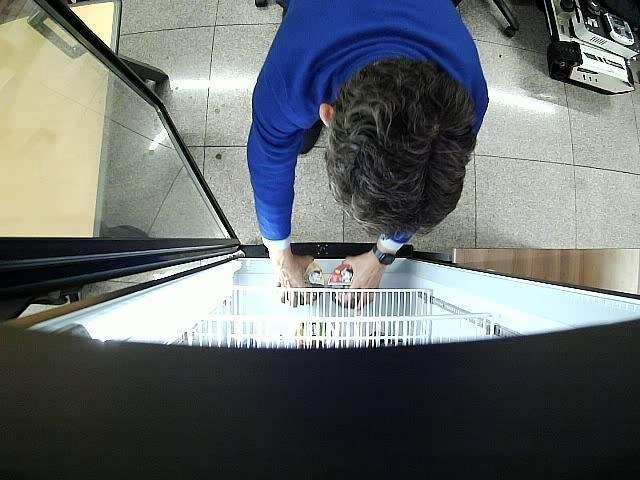07_buldak_L: (328, 264, 359, 309), (298, 262, 324, 305)
